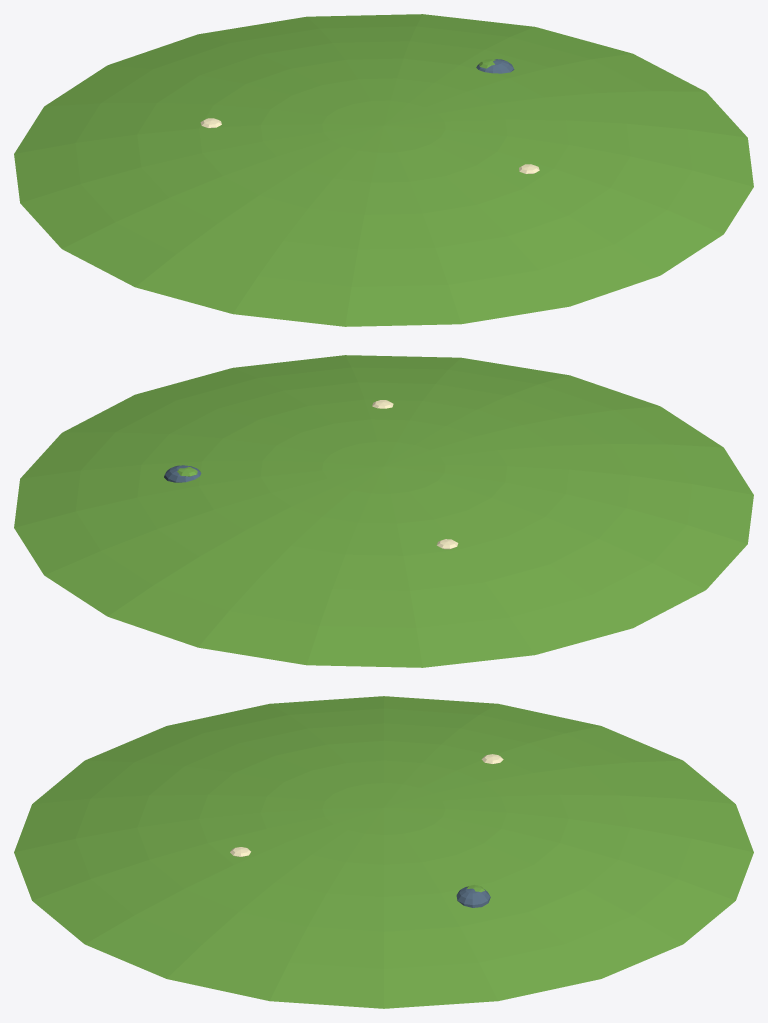
File: hill.glb
3 renders of one model, top to bottom at view 1: azimuth 30°, elevation 25°; view 2: azimuth 150°, elevation 25°; view 3: azimuth 270°, elevation 25°, orthographic.
Parts seen in each view (by area): view 1: GrassSurface_Surface; view 2: GrassSurface_Surface; view 3: GrassSurface_Surface, Mossy stone.004_Surface.
Boxes of the visible parts, box(x1,y1,x2,y2) form: GrassSurface_Surface: box(14, 14, 753, 326); GrassSurface_Surface: box(14, 355, 753, 667); GrassSurface_Surface: box(14, 696, 753, 1008); Mossy stone.004_Surface: box(456, 884, 490, 907).
Size of the model in its own units: 3 by 0.2 by 3.
1 material, 1 textured.
